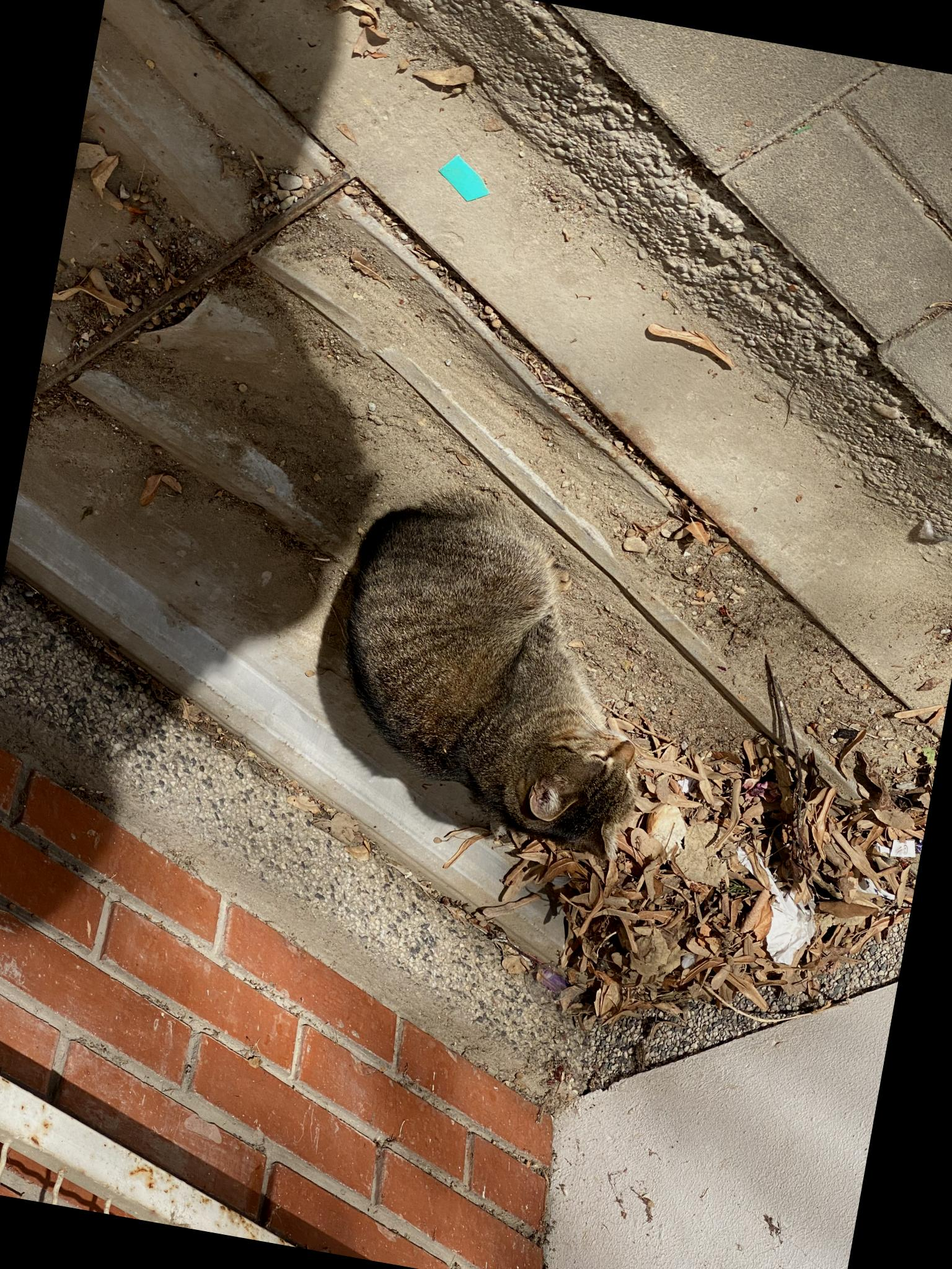macka: (308, 472, 684, 867)
